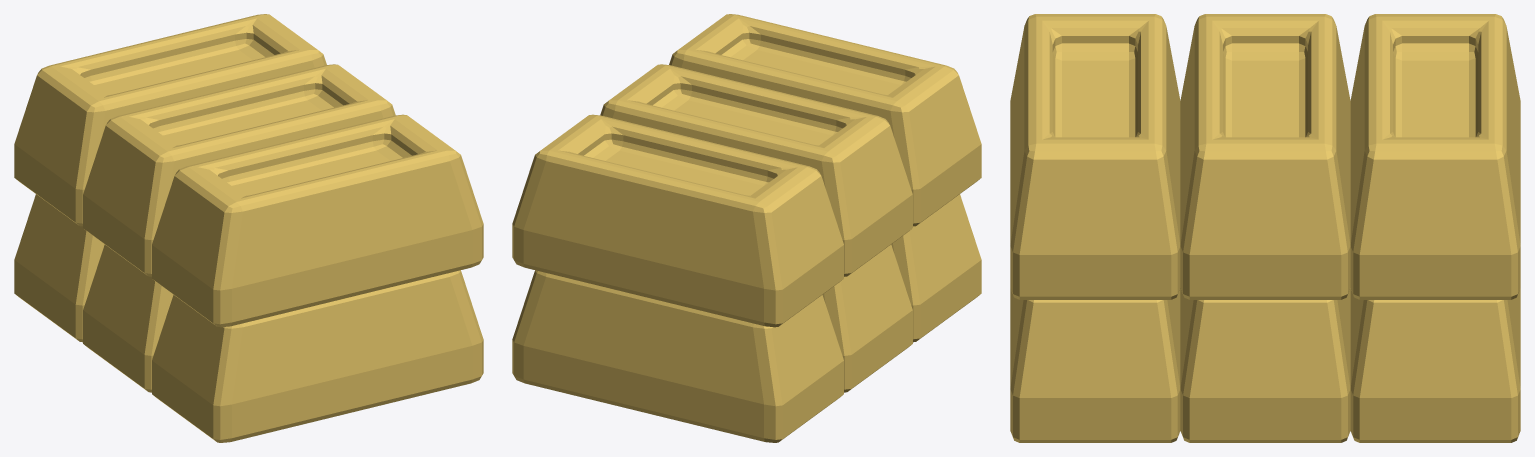
File: clusterLingotes 1.fbx
The picture shows the model from 3 angles, left to right: view 1: azimuth 30°, elevation 25°; view 2: azimuth 150°, elevation 25°; view 3: azimuth 270°, elevation 25°; orthographic projection. The views are drawn at different scales.
Visible parts, largest first — view 1: Cube; view 2: Cube; view 3: Cube.
Part boxes in pixels (box(x1,y1,x2,y2)): Cube: box(14, 14, 483, 442); Cube: box(512, 14, 981, 442); Cube: box(1010, 14, 1520, 442).
Size of the model in its own units: 210 by 172 by 277.
